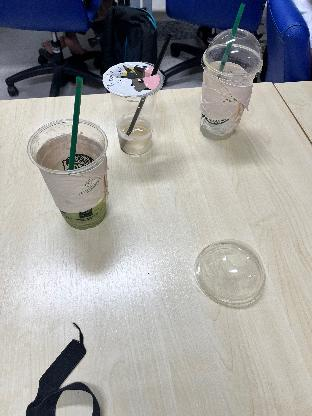Plastic Cup: (27, 116, 109, 231), (194, 42, 263, 146), (105, 53, 165, 157), (199, 28, 268, 82)
